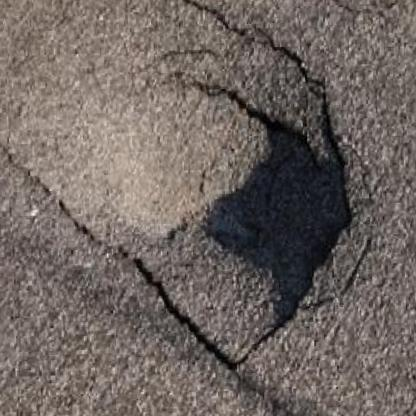pothole: (103, 15, 380, 380)
